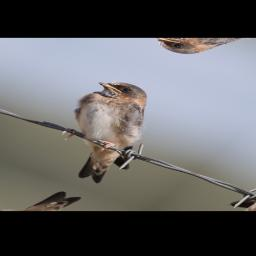Swallow: (12, 74, 202, 188)
